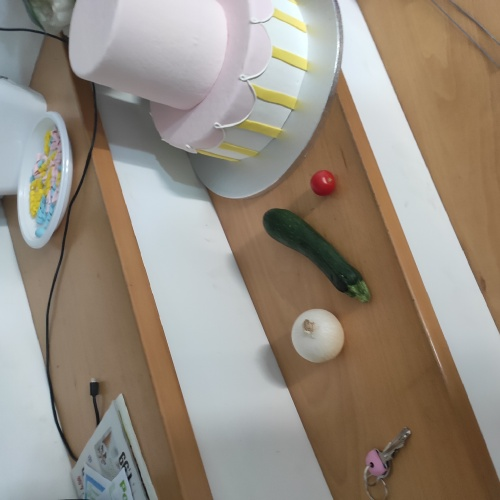cipolla: (295, 310, 343, 363)
pomodoro: (310, 170, 339, 197)
zucchine: (265, 205, 377, 305)
